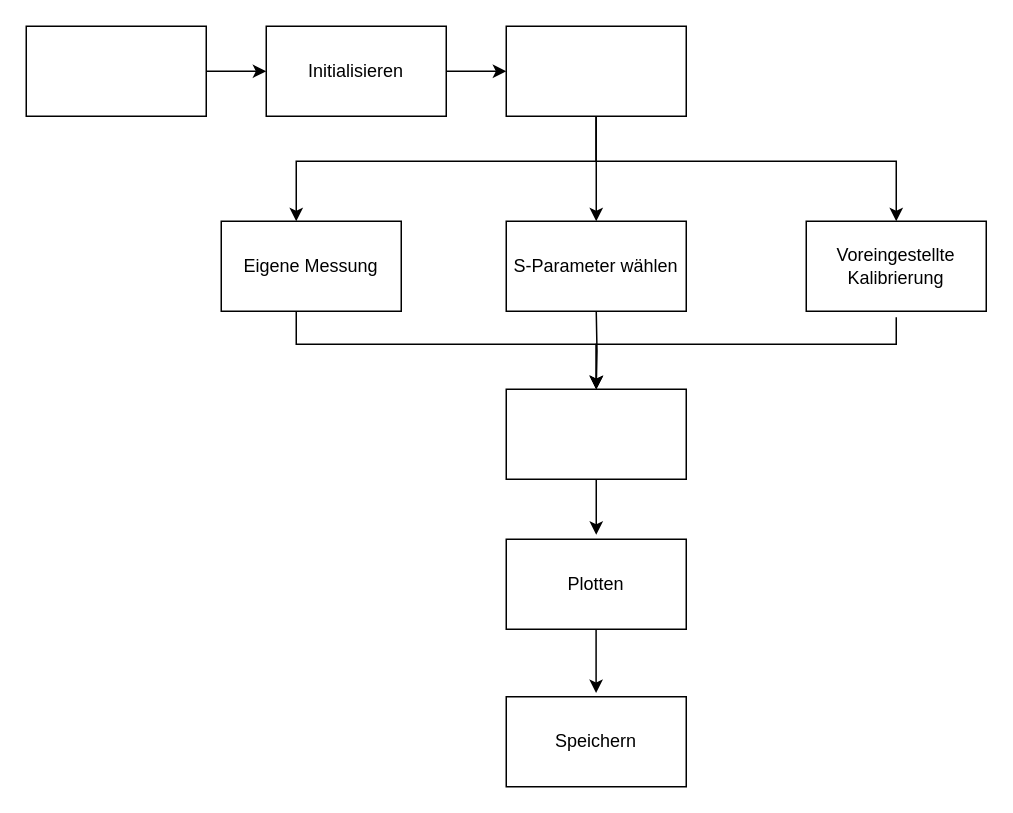
Some shapes in this 1013 by 813 pixel diagram are drawn without their labels. Here are the shapes that lost their labels. From the top down, the box of each, then its label:
(25, 25, 206, 116): Start GUI
(505, 25, 686, 116): Kalibrierung auswählen
(505, 388, 686, 479): Messung
